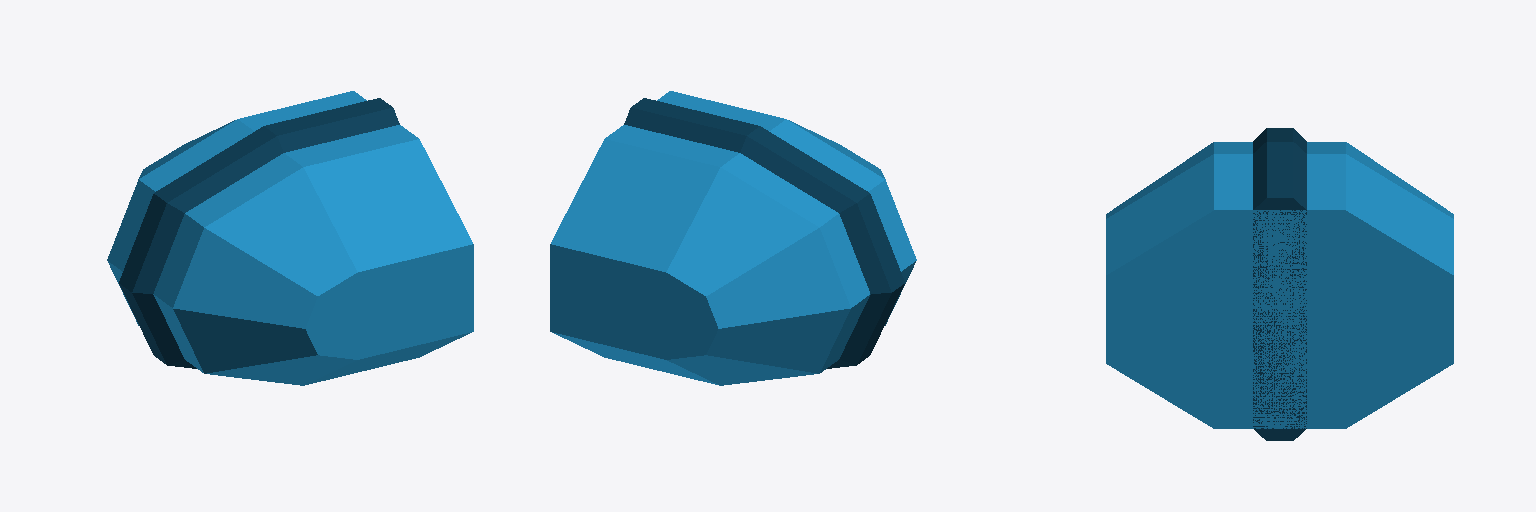
File: Spacestation_Weapon_Modular_Gun_Base.obj
3 renders of one model, left to right at view 1: azimuth 30°, elevation 25°; view 2: azimuth 150°, elevation 25°; view 3: azimuth 270°, elevation 25°, orthographic.
Visible parts, largest first — view 1: object1, object2; view 2: object1, object2; view 3: object1, object2.
Part boxes in pixels (x1,y1,x2,y2): object1: (107, 91, 473, 385); object2: (119, 98, 399, 368); object1: (550, 91, 916, 385); object2: (624, 98, 904, 368); object1: (1106, 142, 1453, 428); object2: (1253, 128, 1306, 440).
Size of the model in its own units: 1.12 by 1 by 1.3.